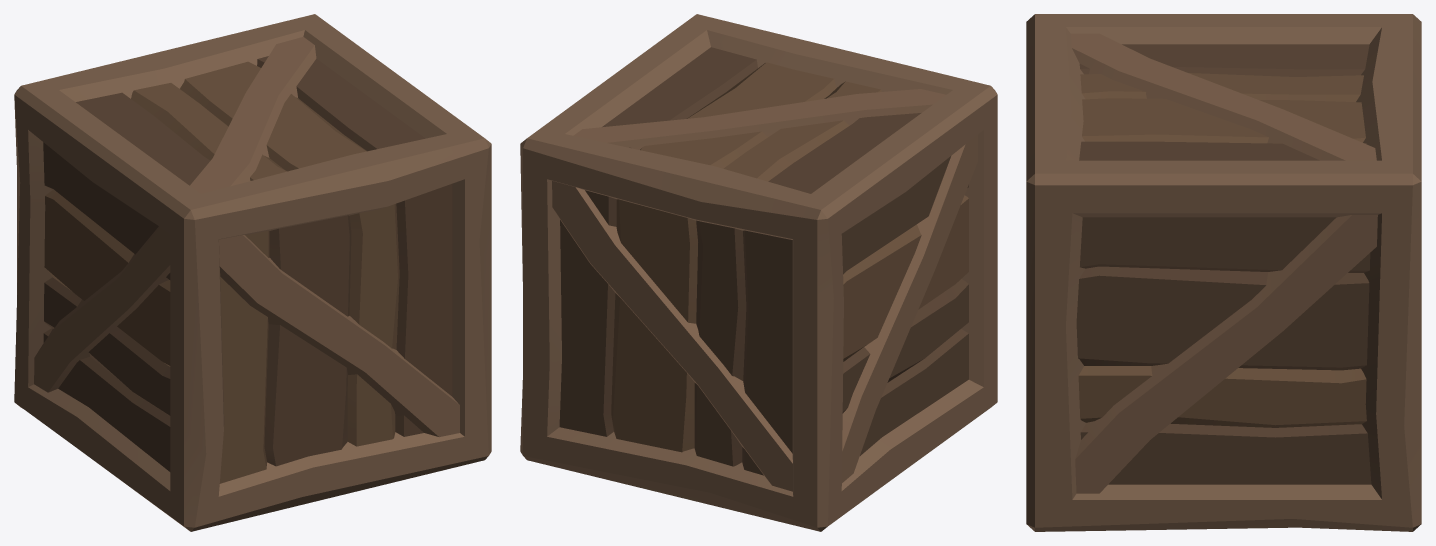
Rendered from crate.glb.
3 views of the same model, side by side, from view 1: azimuth 30°, elevation 25°; view 2: azimuth 150°, elevation 25°; view 3: azimuth 270°, elevation 25° (orthographic). The views are drawn at different scales.
Visible parts, largest first — view 1: SM_Prop_Crate_Wood_01; view 2: SM_Prop_Crate_Wood_01; view 3: SM_Prop_Crate_Wood_01.
Boxes of the visible parts, x1=… form: SM_Prop_Crate_Wood_01: x1=14, y1=14, x2=491, y2=531; SM_Prop_Crate_Wood_01: x1=520, y1=14, x2=997, y2=531; SM_Prop_Crate_Wood_01: x1=1026, y1=14, x2=1421, y2=531.
Bounding box in the file's own units: 1.07 × 1.07 × 1.07.
1 material, 1 textured.
